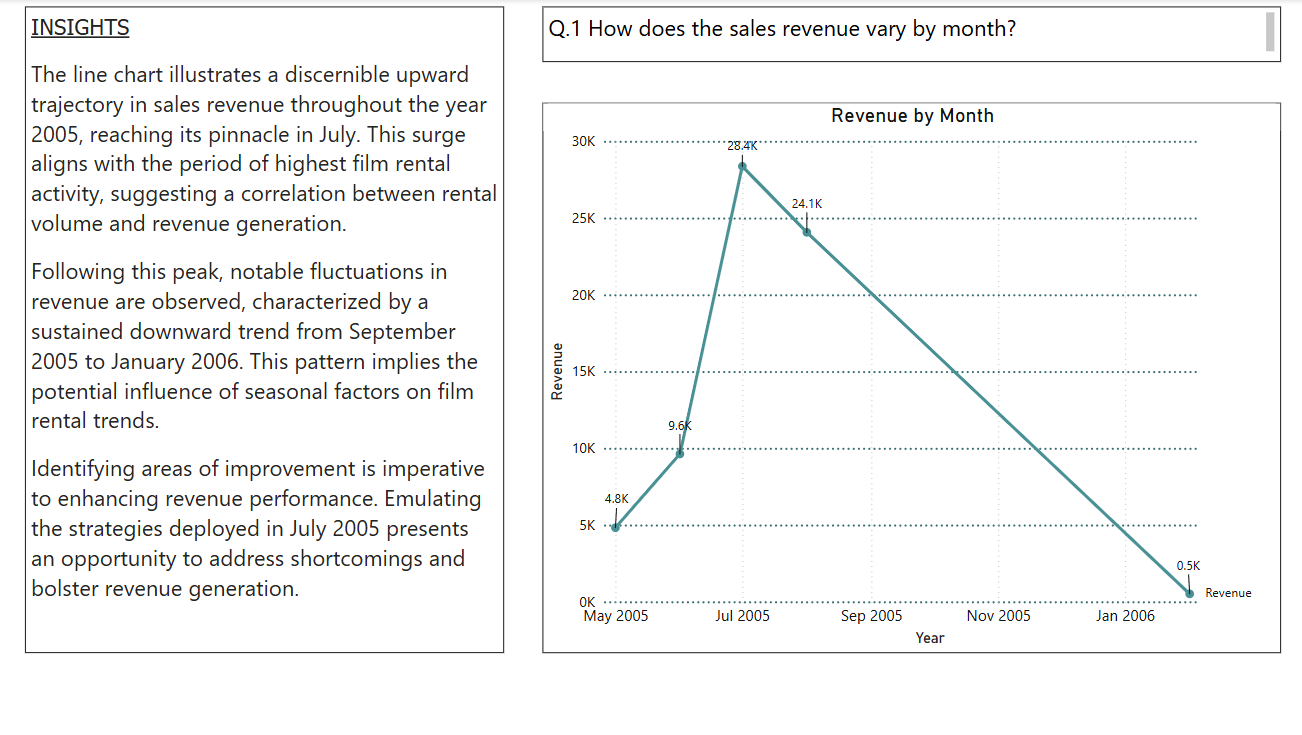

The page's visual inventory and layout, read from the dashboard file:
{"tool":"powerbi","page":{"name":"Q1","canvas":[1280,720],"ordinal":6},"visuals":[{"type":"lineChart","title":"Revenue by Month","fields":{"Y":["payment.Revenue"],"Category":["payment.payment_date.Variation.Date Hierarchy.Year","payment.payment_date.Variation.Date Hierarchy.Month"]},"box":[538.1,100.1,713,530.8],"z":0},{"type":"textbox","box":[538.4,7,712.8,53.5],"z":2000},{"type":"textbox","box":[38.6,7.2,462.1,623.7],"z":4000}]}

Visuals, with their boxes in screenshot pixels (x1, y1, x2, y2), scaled from the page's 1280x720 canvas onto the 1302x735 screenshot:
"Revenue by Month" lineChart: x1=547 y1=102 x2=1273 y2=644
textbox: x1=548 y1=7 x2=1273 y2=62
textbox: x1=39 y1=7 x2=509 y2=644
